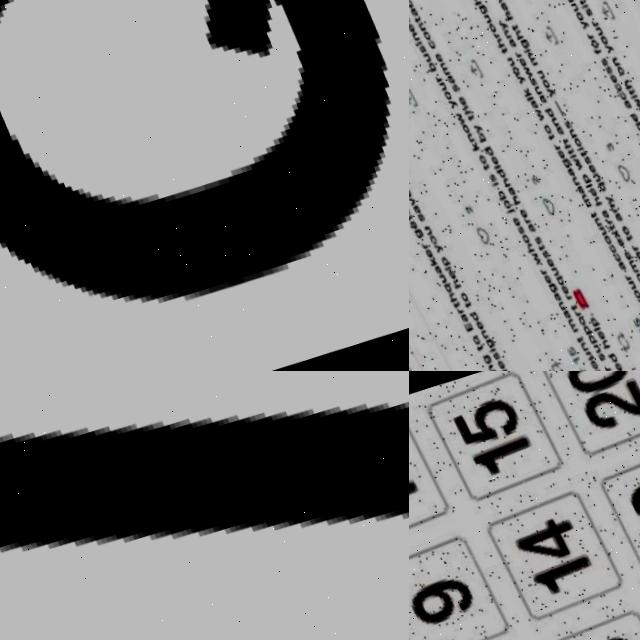0: (554, 371, 640, 403)
1: (521, 546, 605, 600), (461, 427, 542, 482), (409, 464, 442, 532), (557, 343, 569, 355), (624, 314, 636, 326)
2: (567, 371, 640, 443)
3: (555, 620, 640, 640)
4: (500, 504, 591, 573)
5: (437, 385, 529, 458)
9: (409, 566, 485, 636), (613, 454, 640, 527)
Q: (0, 0, 409, 371)
